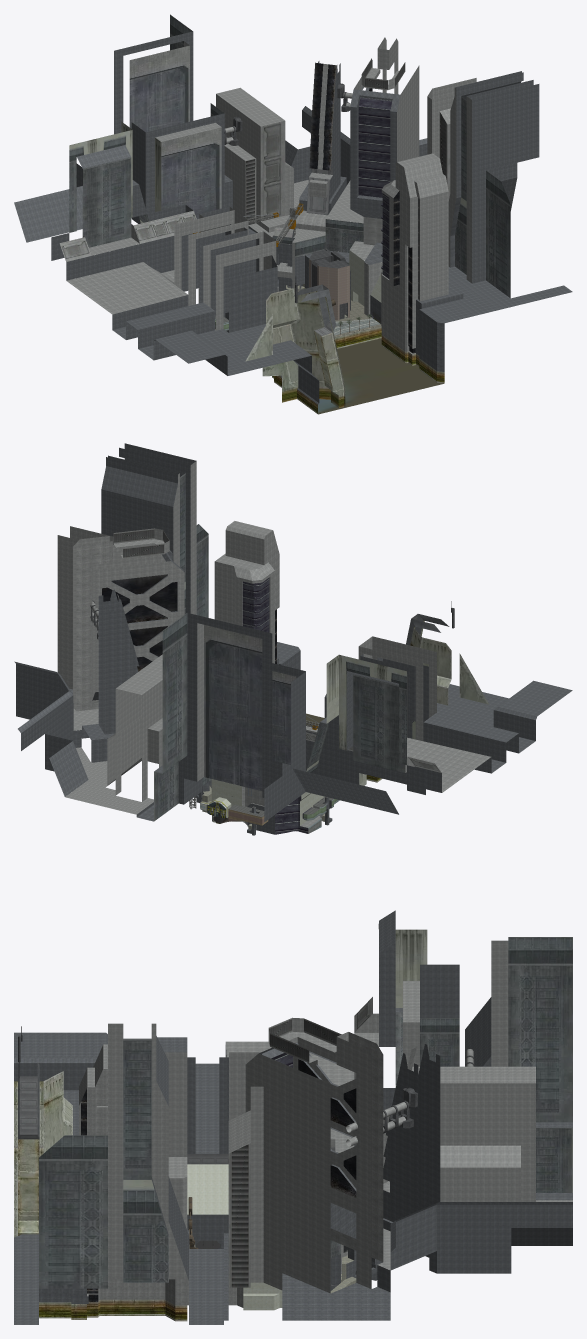
File: head long.glb
The picture shows the model from 3 angles, top to bottom: view 1: azimuth 30°, elevation 25°; view 2: azimuth 150°, elevation 25°; view 3: azimuth 270°, elevation 25°; orthographic projection. The views are drawn at different scales.
Visible parts, largest first — view 1: mesh; view 2: mesh; view 3: mesh.
Part boxes in pixels (<box>): mesh: <box>14,14,572,414</box>; mesh: <box>14,443,572,835</box>; mesh: <box>14,910,572,1324</box>.
Size of what is drawn, in the model's own units: 371 by 225 by 335.
55 materials, 53 textured.
